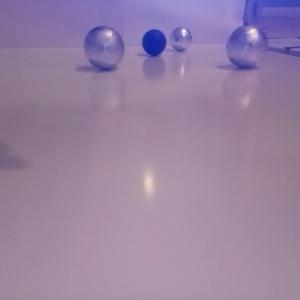alive_ball: (84, 26, 125, 70), (226, 25, 268, 67), (170, 27, 192, 51)
dead_ball: (142, 29, 167, 56)
